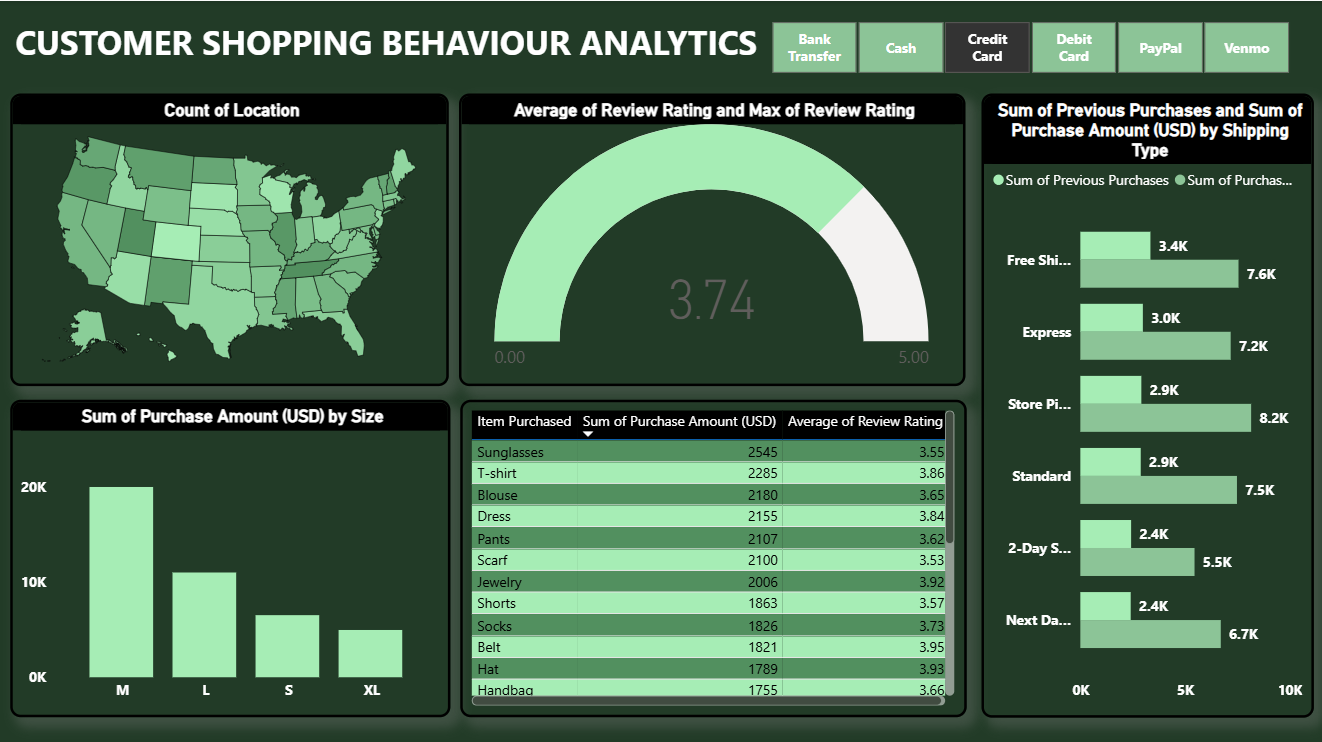

What the dashboard file says about the page in this screenshot:
{"tool":"powerbi","page":{"name":"Page 1","canvas":[1280,720],"ordinal":0},"visuals":[{"type":"textbox","box":[10.9,13.3,731.1,62.7],"z":0},{"type":"shapeMap","title":"Count of Location","fields":{"Value":["CountNonNull(shopping_trends.Location)"],"Category":["shopping_trends.Location"]},"box":[10.9,89.3,423.5,282.3],"z":1000},{"type":"gauge","fields":{"Y":["Avg(shopping_trends.Review Rating)"],"MaxValue":["Max(shopping_trends.Review Rating)1"]},"box":[444,89.3,488.6,282.3],"z":2000},{"type":"clusteredColumnChart","fields":{"Y":["Sum(shopping_trends.Purchase Amount (USD))"],"Category":["shopping_trends.Size"]},"box":[10.9,384.9,424.7,306.4],"z":3000},{"type":"tableEx","fields":{"Values":["shopping_trends.Item Purchased","Sum(shopping_trends.Purchase Amount (USD))","Avg(shopping_trends.Review Rating)"]},"box":[445.2,384.9,488.6,306.4],"z":4000},{"type":"clusteredBarChart","fields":{"Category":["shopping_trends.Shipping Type"],"Y":["Sum(shopping_trends.Previous Purchases)","Sum(shopping_trends.Purchase Amount (USD))"]},"box":[948.3,89.3,320.9,602],"z":5000},{"type":"slicer","fields":{"Values":["shopping_trends.Payment Method"]},"box":[720.2,13.3,548.9,62.7],"z":6000}]}

Visuals, with their boxes in screenshot pixels (x1, y1, x2, y2), scaled from the page's 1280x720 canvas onto the 1322x742 screenshot:
textbox: (left=11, top=14, right=766, bottom=78)
"Count of Location" shapeMap: (left=11, top=92, right=449, bottom=383)
gauge - Avg(shopping_trends.Review Rating) x Max(shopping_trends.Review Rating)1: (left=459, top=92, right=963, bottom=383)
clusteredColumnChart - Sum(shopping_trends.Purchase Amount (USD)) x shopping_trends.Size: (left=11, top=397, right=450, bottom=712)
tableEx - shopping_trends.Item Purchased x Sum(shopping_trends.Purchase Amount (USD)): (left=460, top=397, right=964, bottom=712)
clusteredBarChart - shopping_trends.Shipping Type x Sum(shopping_trends.Previous Purchases): (left=979, top=92, right=1311, bottom=712)
slicer - shopping_trends.Payment Method: (left=744, top=14, right=1311, bottom=78)
